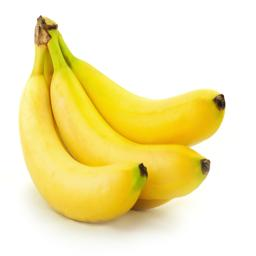Banana Fresh: (21, 14, 232, 231)
